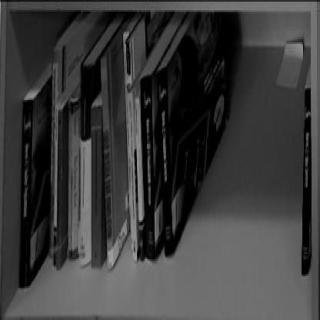book-spine: (42, 47, 63, 256), (78, 61, 95, 265), (157, 67, 174, 255), (100, 54, 114, 268), (140, 74, 156, 259), (18, 97, 33, 286), (90, 105, 102, 266), (301, 86, 311, 274), (127, 88, 137, 258), (135, 96, 144, 259), (72, 102, 80, 259), (52, 103, 59, 265), (56, 107, 63, 269), (67, 101, 73, 257)
